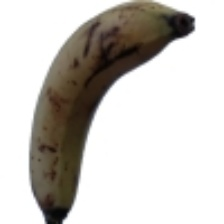banana: (43, 25, 211, 224)
